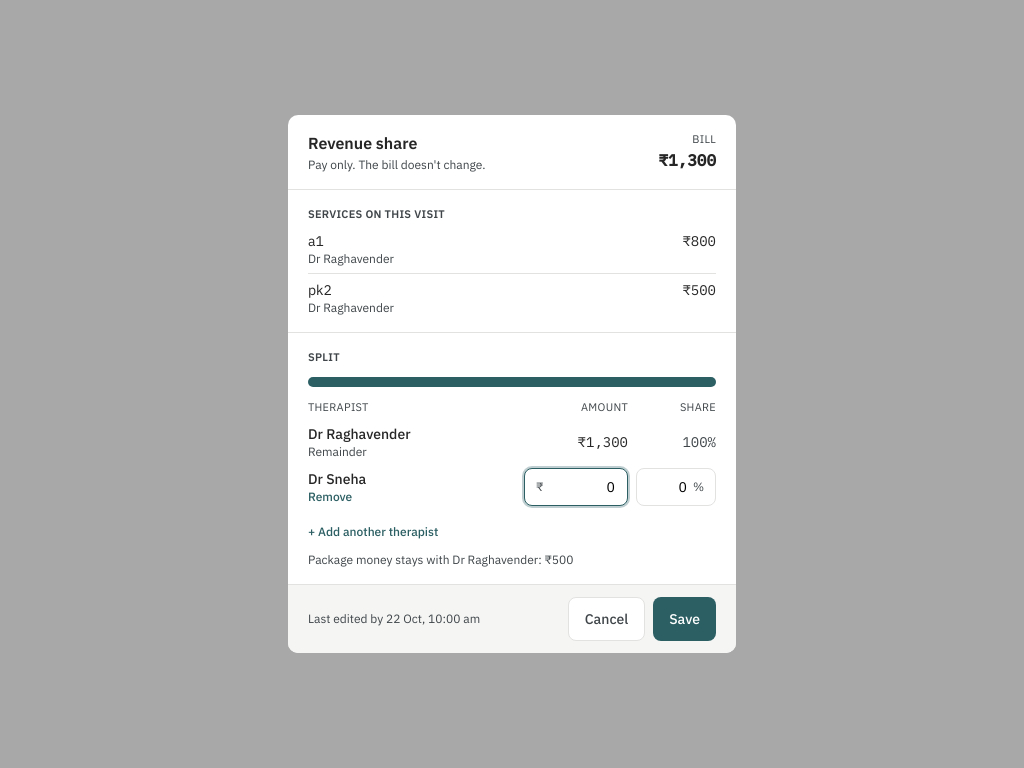
Test: RevenueShareEditor › refuses more than bill less package money and blocks Save
Expected: the text "Package money stays with Dr Raghavender: ₹500" is shown, [308,552,573,567]
Replace the text in the number field named "Dr Sneha share in rupees" with "900". click: (576, 487)
box: [524,468,628,506]
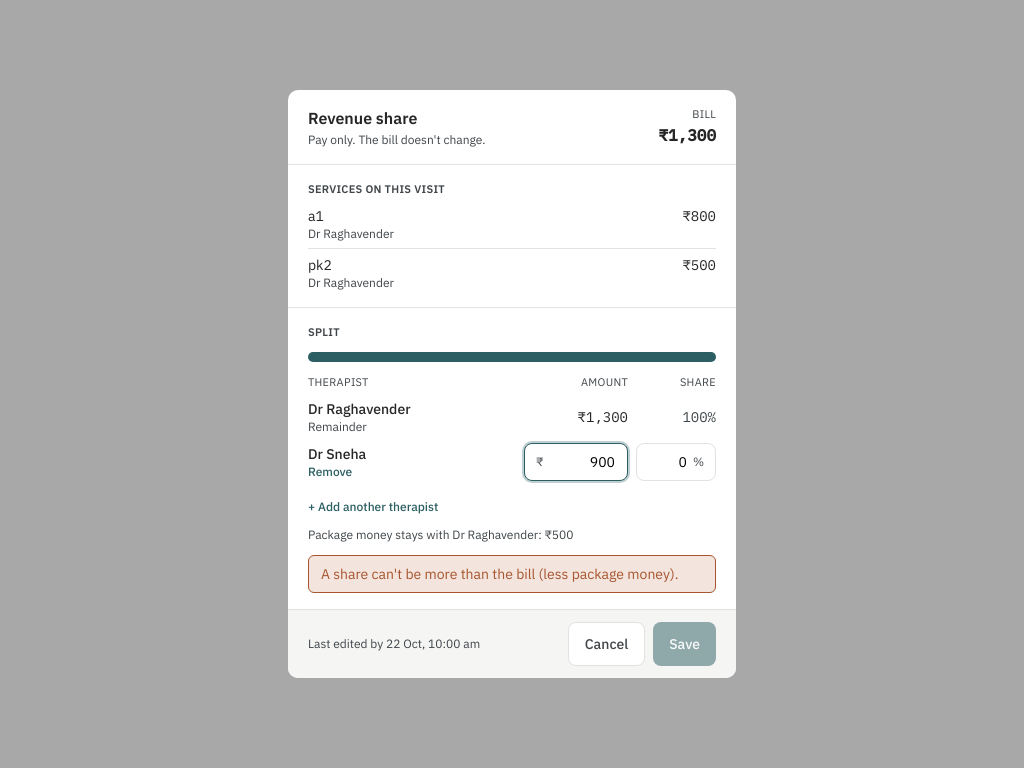
Now the message reads "A share can't be more than the bill (less package money).", box [321,565,678,583]
Now the button "Save" is disabled, box [653,622,716,666]
